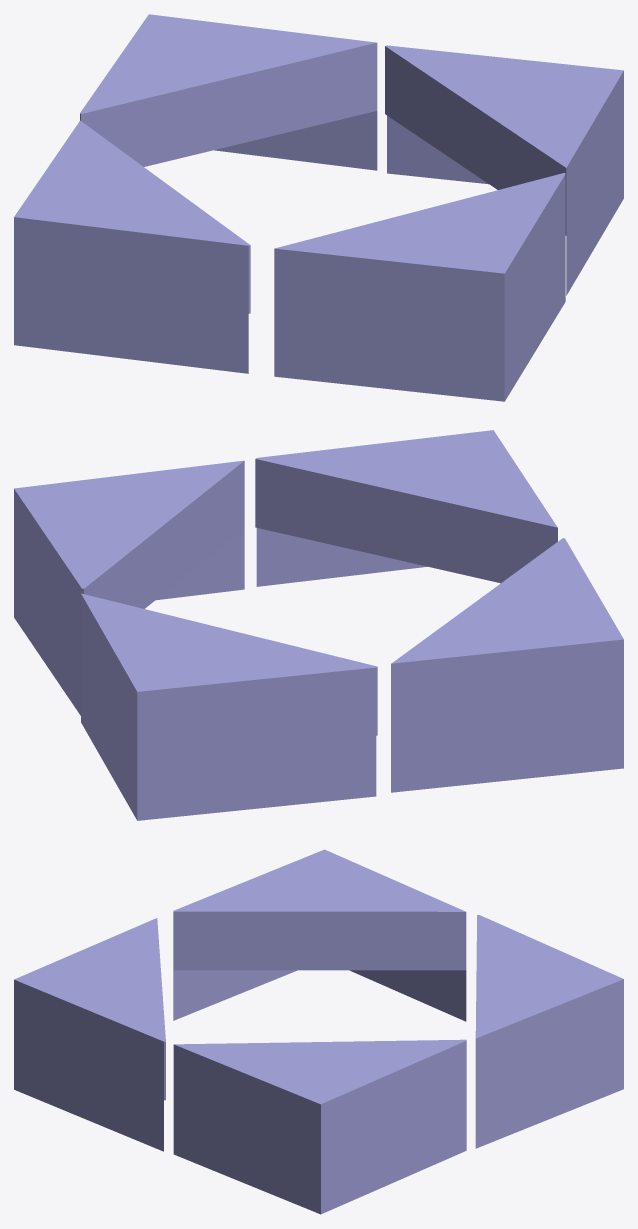
Rendered from Rune5NoStone.fbx.
3 views of the same model, one above another, from view 1: azimuth 30°, elevation 25°; view 2: azimuth 150°, elevation 25°; view 3: azimuth 270°, elevation 25° (orthographic). The views are drawn at different scales.
Parts seen in each view (by area): view 1: Cube.002, Cube.001, Cube.003, Cube.000; view 2: Cube.003, Cube.001, Cube.002, Cube.000; view 3: Cube.000, Cube.001, Cube.002, Cube.003.
Part boxes in pixels (x1,y1,x2,y2): Cube.002: (274,173,565,401); Cube.001: (14,120,250,373); Cube.003: (80,14,377,170); Cube.000: (385,45,623,295); Cube.003: (81,593,377,820); Cube.001: (391,538,623,792); Cube.002: (255,430,557,586); Cube.000: (14,460,244,715); Cube.000: (173,1039,466,1214); Cube.001: (173,849,466,1021); Cube.002: (14,918,165,1151); Cube.003: (475,915,623,1148).
Bounding box in the file's own units: 177 × 35.66 × 179.
